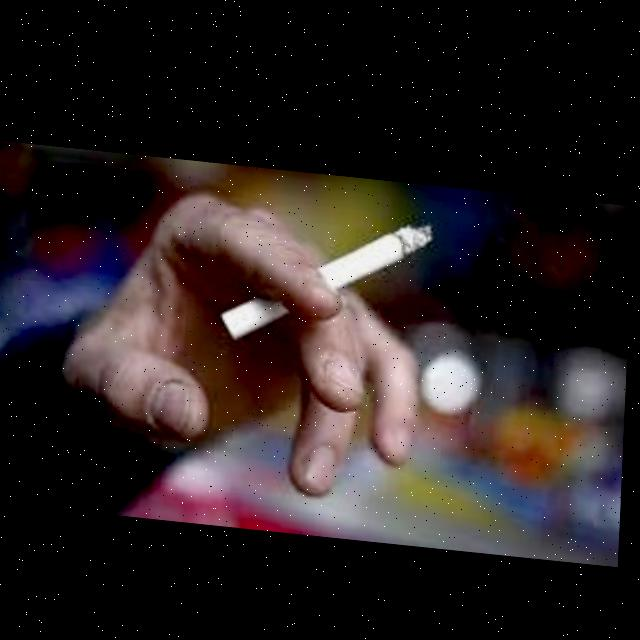cigarette: (223, 197, 434, 350)
